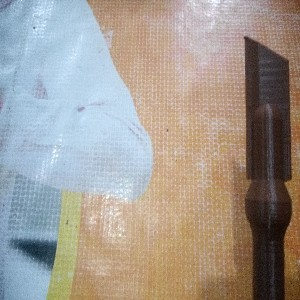cutter: (243, 34, 293, 300)
